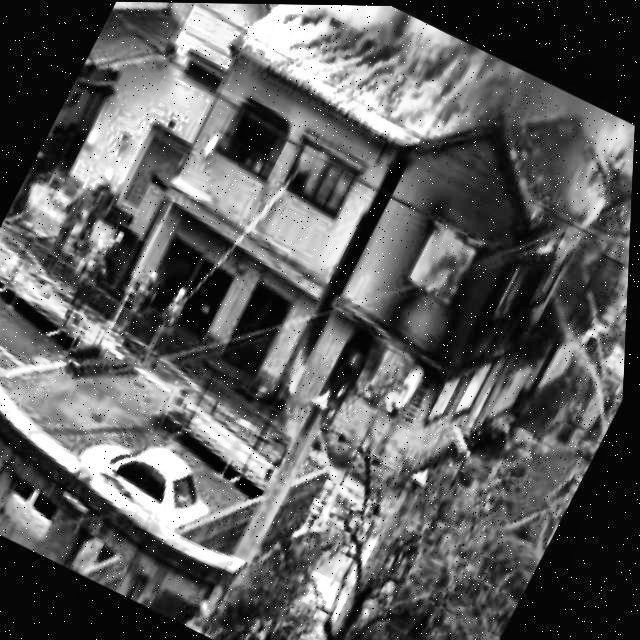Fire: (257, 147, 602, 513), (214, 109, 372, 224), (323, 4, 425, 78)
Smoke: (378, 22, 621, 211), (231, 3, 357, 81)
